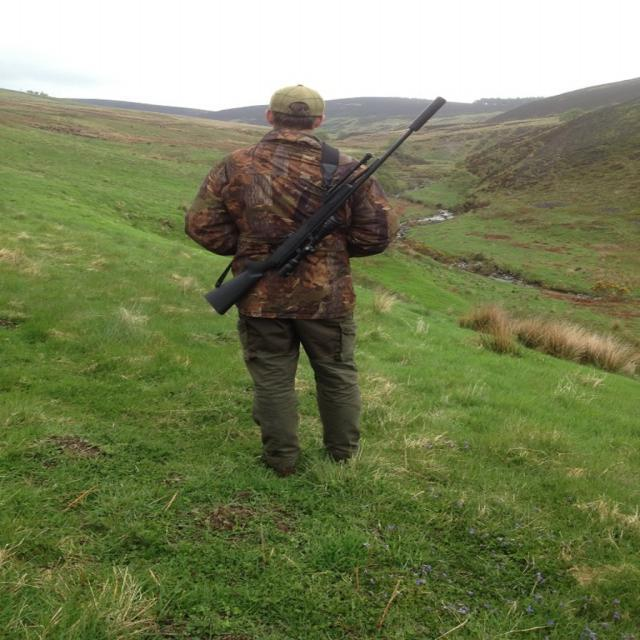weapon: (202, 95, 448, 316)
